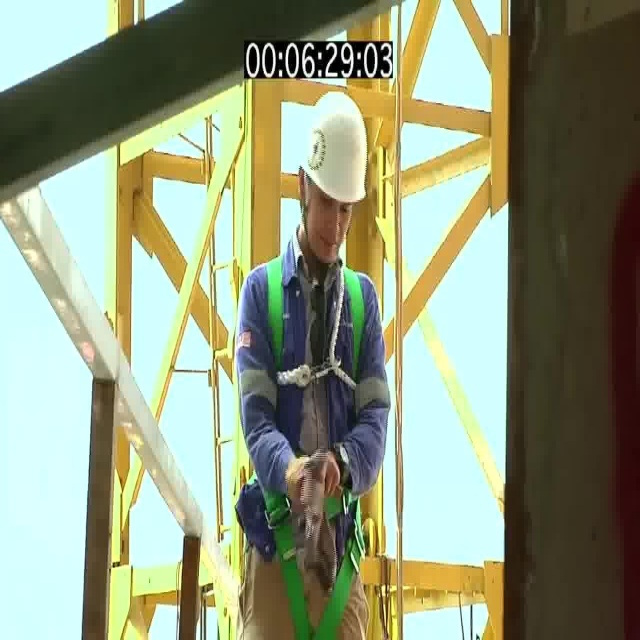Arnes_seguridad: (257, 254, 369, 624)
